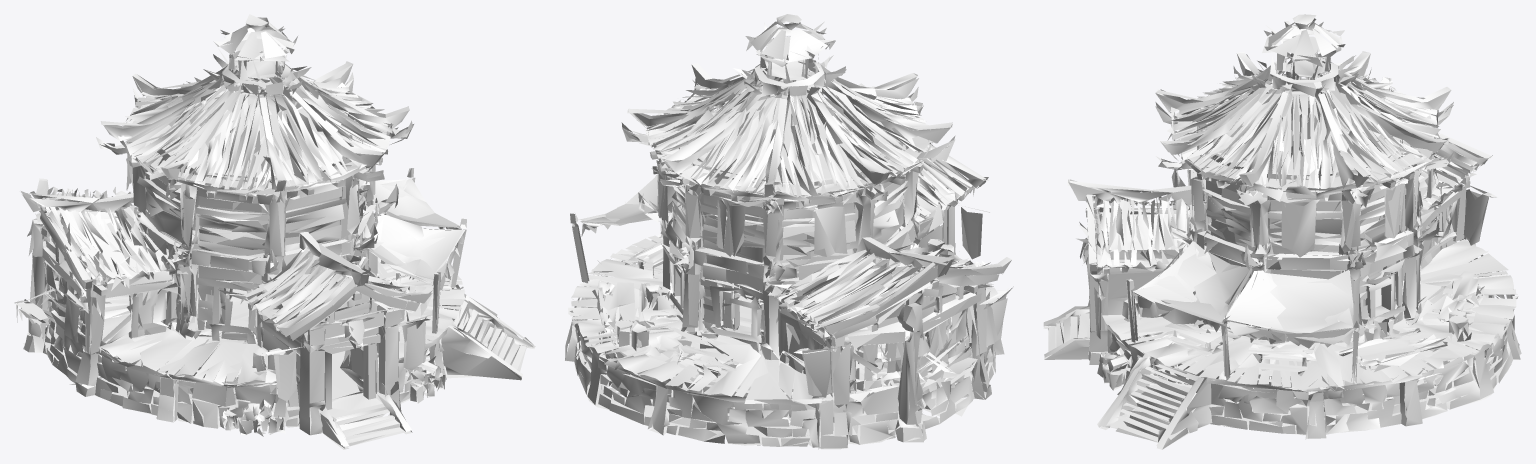
Rendered from tavern_hall_lod1.glb.
The picture shows the model from 3 angles, left to right: view 1: azimuth 30°, elevation 25°; view 2: azimuth 150°, elevation 25°; view 3: azimuth 270°, elevation 25°; orthographic projection. The views are drawn at different scales.
Parts seen in each view (by area): view 1: tavern_hall; view 2: tavern_hall; view 3: tavern_hall.
Part boxes in pixels (left/top/right/bottom): tavern_hall: left=14, top=14, right=535, bottom=449; tavern_hall: left=564, top=14, right=1013, bottom=449; tavern_hall: left=1043, top=14, right=1521, bottom=449.
Size of the model in its own units: 17.21 by 13.29 by 17.14.
Materials: 1 (1 with a texture image).
